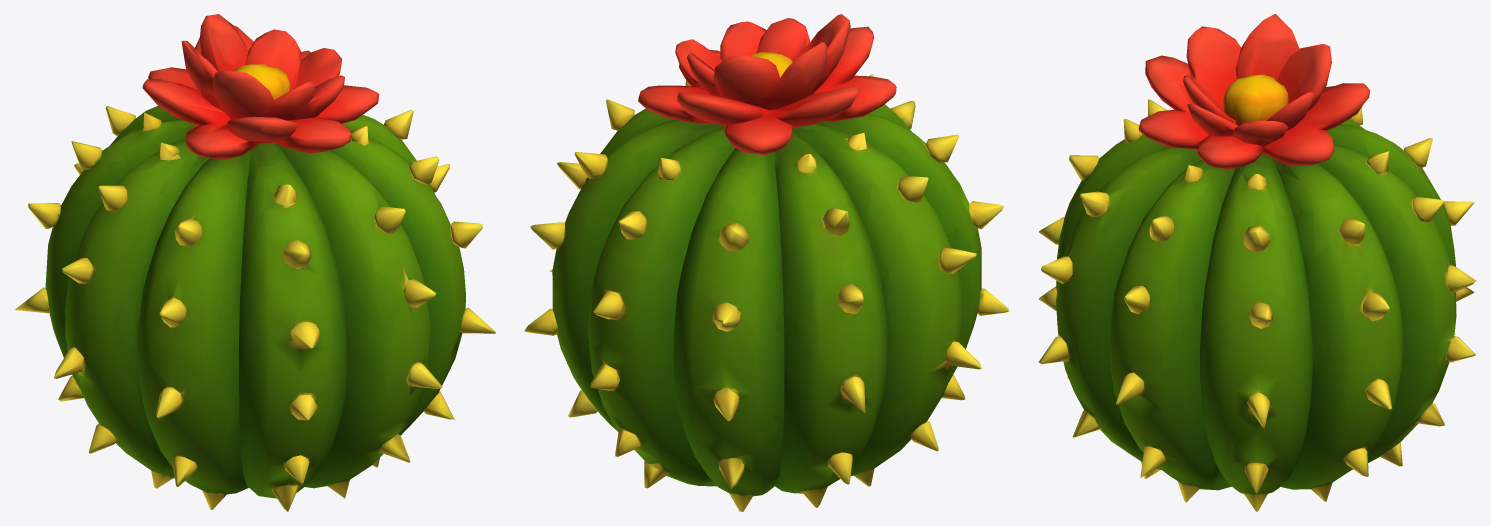
Rendered from cactus_barrel.glb.
3 renders of one model, left to right at view 1: azimuth 30°, elevation 25°; view 2: azimuth 150°, elevation 25°; view 3: azimuth 270°, elevation 25°, orthographic. The views are drawn at different scales.
Parts seen in each view (by area): view 1: tripo_node_0a5dca9e-86b1-44a8-8923-97bc530cceed; view 2: tripo_node_0a5dca9e-86b1-44a8-8923-97bc530cceed; view 3: tripo_node_0a5dca9e-86b1-44a8-8923-97bc530cceed.
Part boxes in pixels (bbox=[...]): tripo_node_0a5dca9e-86b1-44a8-8923-97bc530cceed: bbox=[14, 14, 495, 511]; tripo_node_0a5dca9e-86b1-44a8-8923-97bc530cceed: bbox=[524, 14, 1009, 511]; tripo_node_0a5dca9e-86b1-44a8-8923-97bc530cceed: bbox=[1038, 14, 1476, 511].
Size of the model in its own units: 0.8981 by 0.9022 by 0.8452.
Materials: 1 (1 with a texture image).
